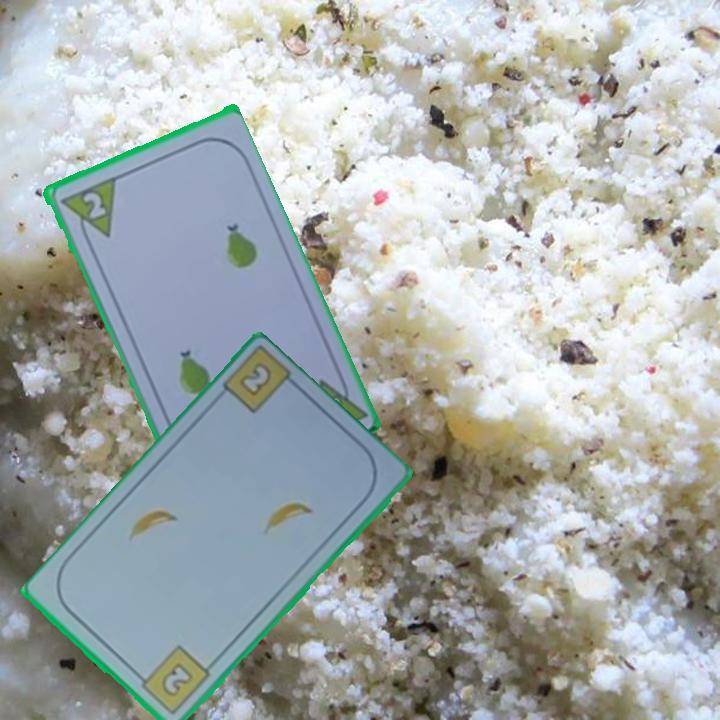2b: (132, 642, 213, 719), (235, 359, 275, 401)
2p: (78, 188, 109, 222)
